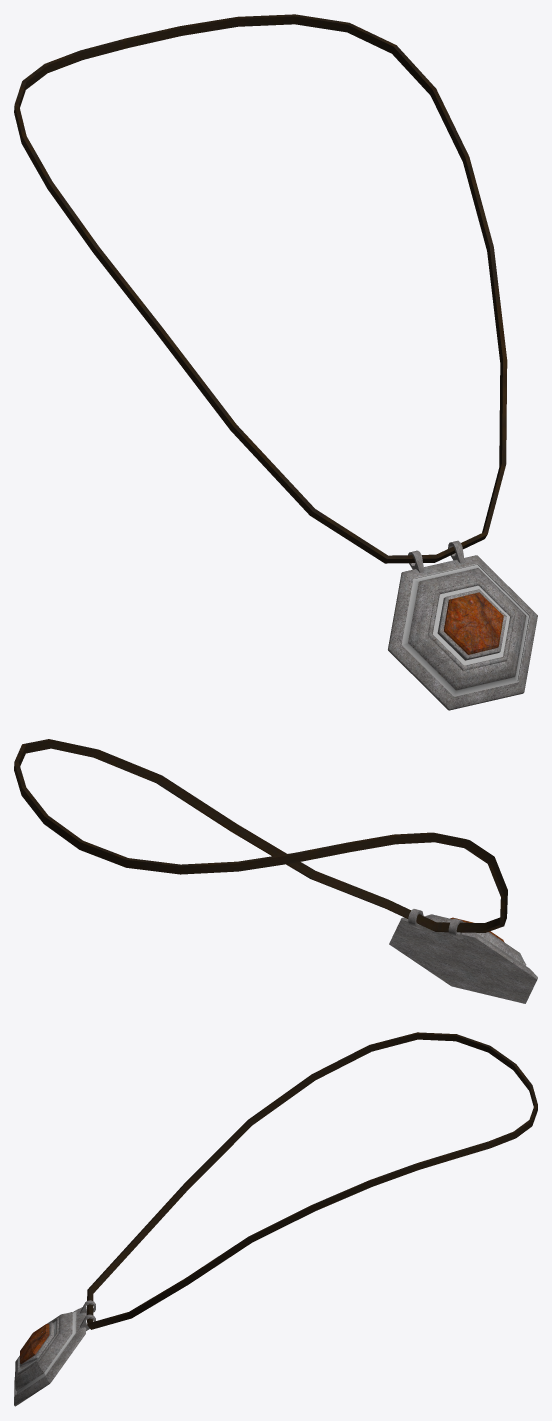
Rendered from amulet.glb.
The picture shows the model from 3 angles, top to bottom: view 1: azimuth 30°, elevation 25°; view 2: azimuth 150°, elevation 25°; view 3: azimuth 270°, elevation 25°; orthographic projection. The views are drawn at different scales.
Parts seen in each view (by area): view 1: amulet; view 2: amulet; view 3: amulet.
Boxes of the visible parts, <box> form: amulet: <box>14,14,537,710</box>; amulet: <box>14,739,537,1003</box>; amulet: <box>14,1032,537,1406</box>.
Size of the model in its own units: 2 by 2.05 by 3.24.
Materials: 1 (1 with a texture image).
